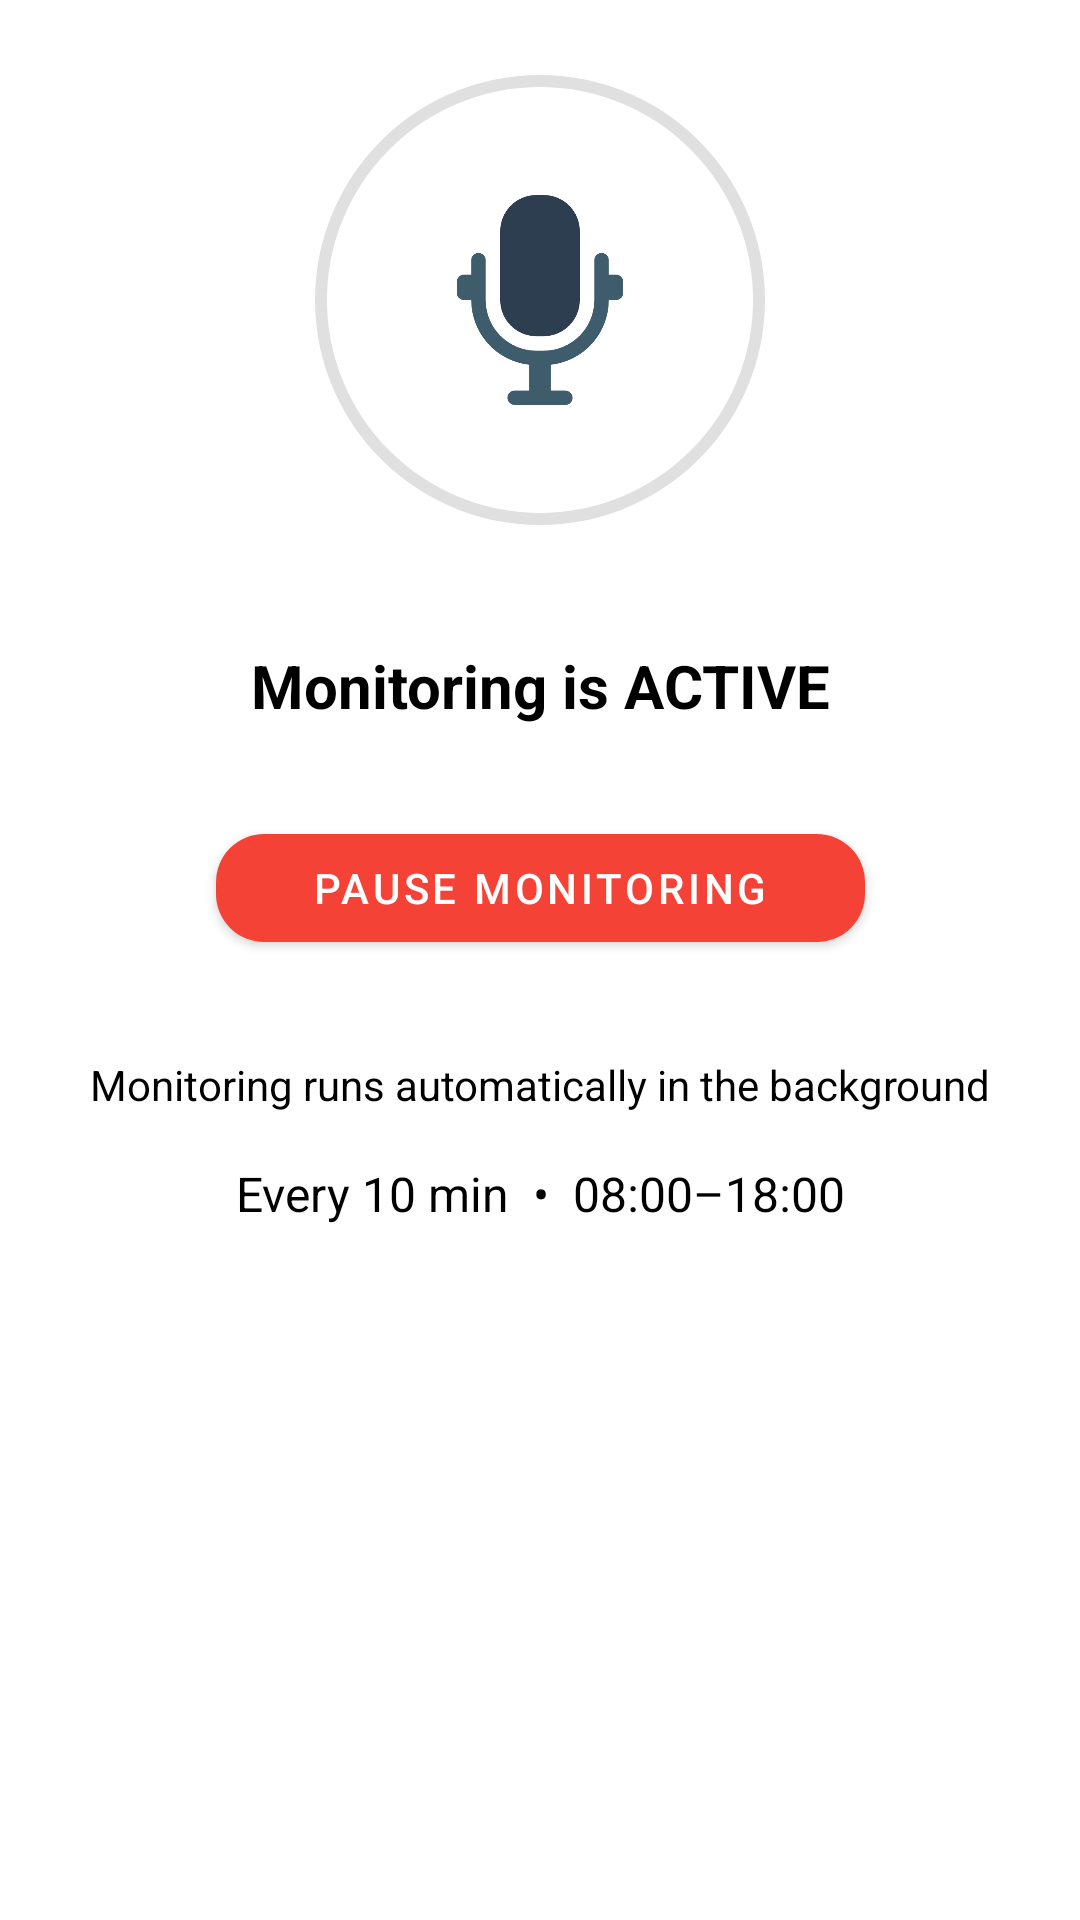

Where icons sit on this 1080px x 1920px app screen, as (x1, y1, x2, y2):
Microphone Icon: (457, 195, 623, 405)
